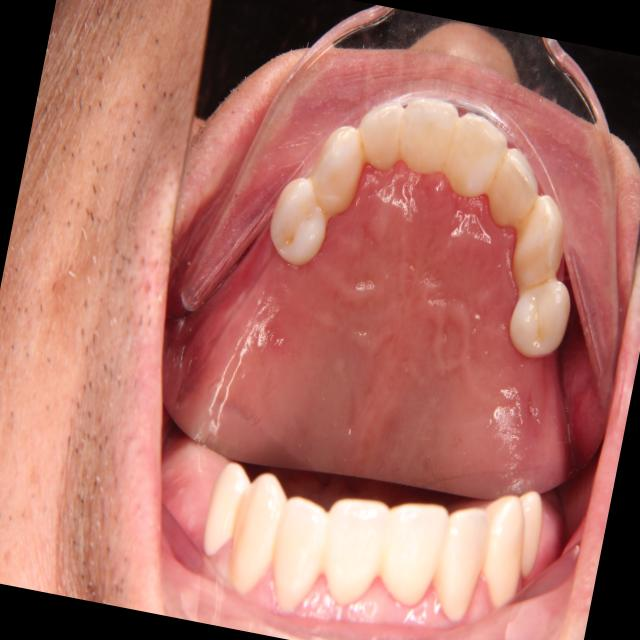tooth: (255, 162, 344, 274), (495, 185, 579, 302), (296, 111, 375, 229), (440, 100, 517, 213), (499, 269, 583, 371), (480, 131, 552, 240), (344, 83, 419, 185), (390, 85, 465, 182)
